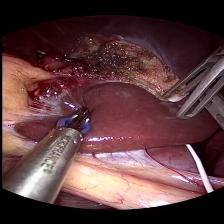Bipolar: (57, 104, 95, 136)
Grasper: (146, 37, 224, 126)
